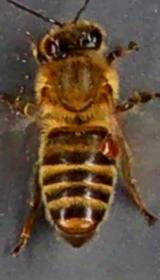varroa_mite: (90, 127, 125, 166)
